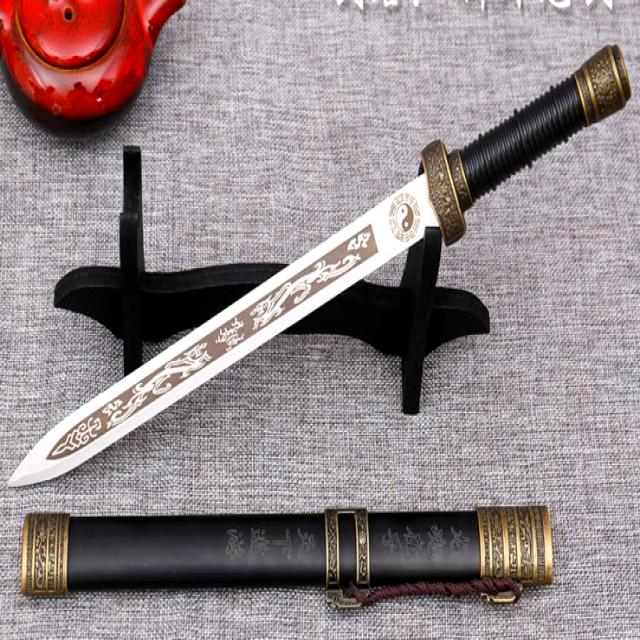long sword: (7, 48, 629, 488), (20, 503, 557, 597)
